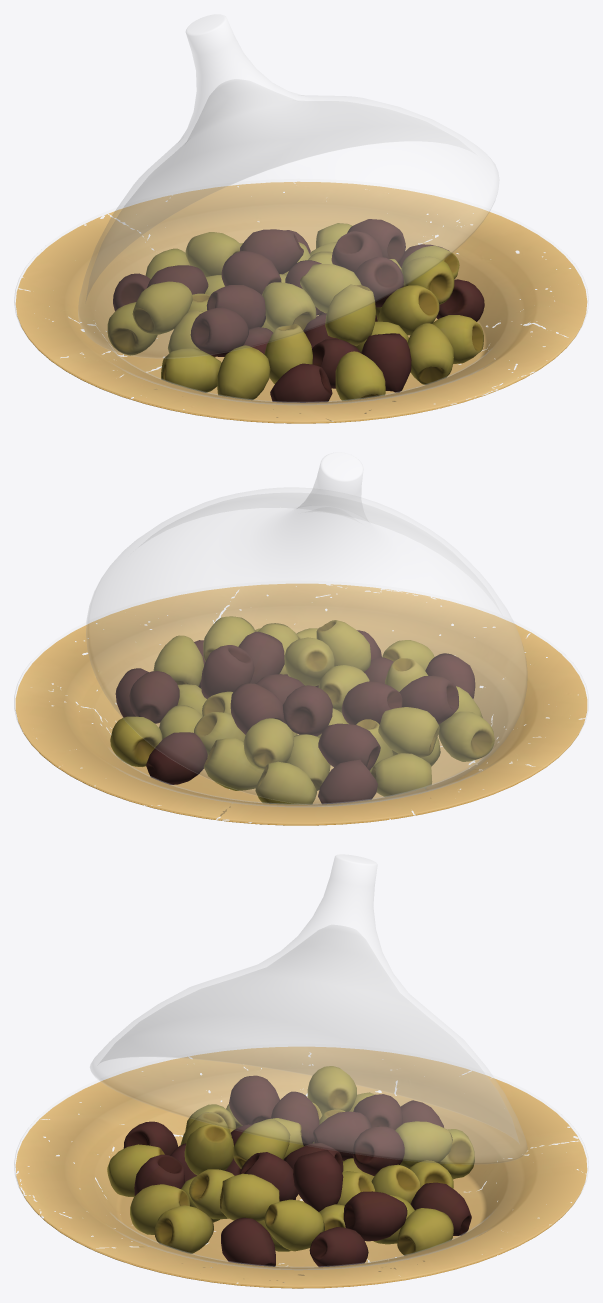
File: IridescentDishWithOlives.glb
3 views of the same model, one above another, from view 1: azimuth 30°, elevation 25°; view 2: azimuth 150°, elevation 25°; view 3: azimuth 270°, elevation 25° (orthographic).
Visible parts, largest first — view 1: glassCover, goldLeaf, glassDish, olives; view 2: glassCover, glassDish, goldLeaf, olives; view 3: glassCover, goldLeaf, olives, glassDish.
Boxes of the visible parts, box(x1,y1,x2,y2) form: glassCover: box(78, 14, 499, 358); goldLeaf: box(15, 181, 587, 423); glassDish: box(14, 179, 588, 422); olives: box(107, 219, 484, 402); glassCover: box(86, 452, 527, 805); glassDish: box(14, 581, 588, 824); goldLeaf: box(15, 583, 587, 825); olives: box(110, 616, 494, 804); glassCover: box(90, 854, 527, 1164); goldLeaf: box(15, 1047, 587, 1288); olives: box(107, 1066, 474, 1267); glassDish: box(14, 1057, 588, 1287).
Size of the model in its own units: 0.4593 by 0.2855 by 0.4593.
Materials: 4 (2 with a texture image).
